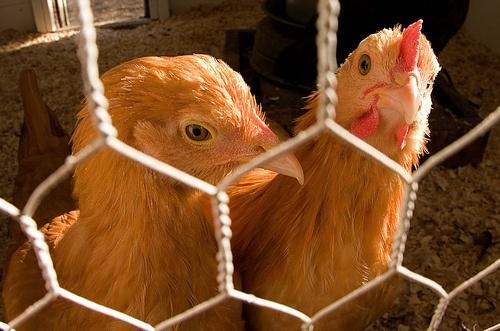bird: (1, 50, 302, 331), (233, 18, 447, 330)
